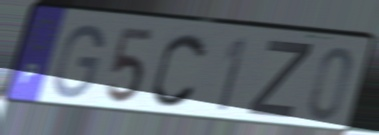0: (306, 44, 354, 123)
1: (215, 35, 250, 115)
5: (101, 24, 158, 106)
C: (150, 30, 210, 110)
G: (51, 22, 106, 101)
Z: (243, 37, 315, 121)
